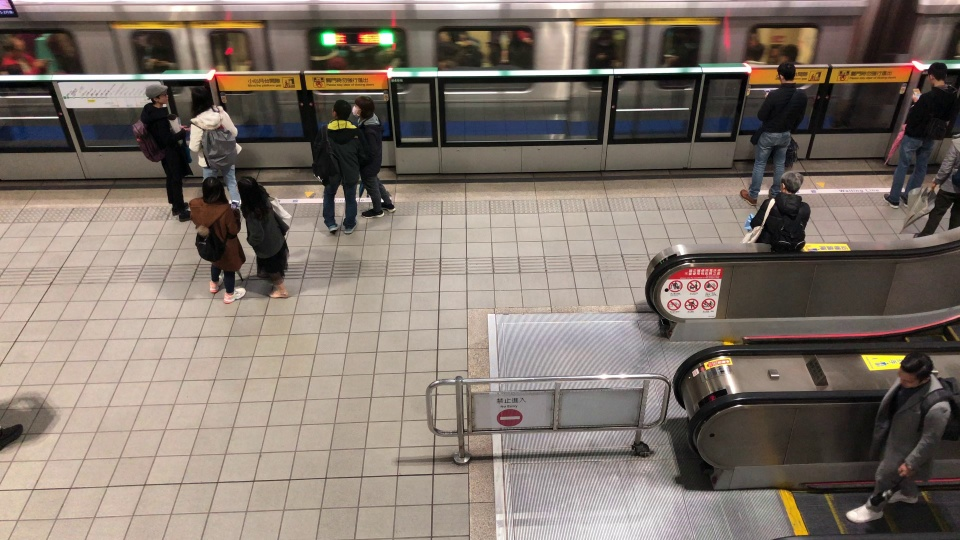person_head: (895, 353, 935, 389), (199, 176, 230, 209), (237, 176, 269, 206), (778, 169, 805, 197), (188, 86, 213, 115), (141, 83, 170, 107), (925, 60, 949, 89), (352, 97, 376, 122), (327, 99, 352, 121), (773, 63, 797, 85)
person_vbox: (838, 352, 960, 526), (877, 60, 960, 208), (734, 63, 809, 202), (124, 83, 196, 219), (177, 176, 251, 304), (177, 85, 245, 211), (308, 97, 363, 235), (899, 122, 960, 243), (229, 176, 289, 299), (733, 168, 814, 254), (347, 97, 400, 218)
